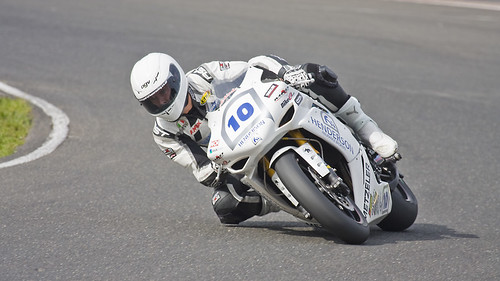helmet: (124, 48, 191, 123)
